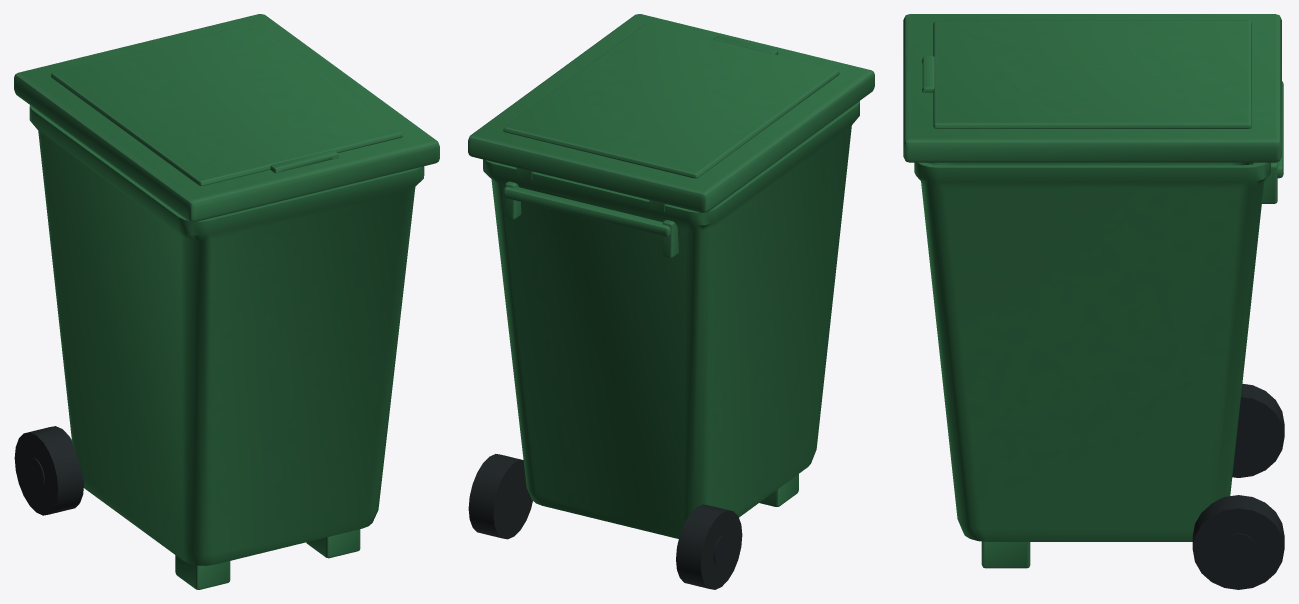
File: contentor_lixo_realista.glb
3 renders of one model, left to right at view 1: azimuth 30°, elevation 25°; view 2: azimuth 150°, elevation 25°; view 3: azimuth 270°, elevation 25°, orthographic. The views are drawn at different scales.
Visible parts, largest first — view 1: Corpo, Tampa, Rodas; view 2: Corpo, Tampa, Rodas; view 3: Corpo, Tampa, Rodas.
Part boxes in pixels (left/top/right/bottom): Corpo: left=29, top=105, right=424, bottom=589; Tampa: left=14, top=14, right=439, bottom=221; Rodas: left=14, top=426, right=84, bottom=515; Corpo: left=483, top=101, right=859, bottom=538; Tampa: left=468, top=14, right=874, bottom=212; Rodas: left=468, top=454, right=742, bottom=589; Corpo: left=914, top=81, right=1283, bottom=568; Tampa: left=903, top=14, right=1281, bottom=162; Rodas: left=1192, top=383, right=1284, bottom=589.
Bounding box in the file's own units: 0.58 × 0.95 × 0.72.
Materials: 1 (1 with a texture image).
